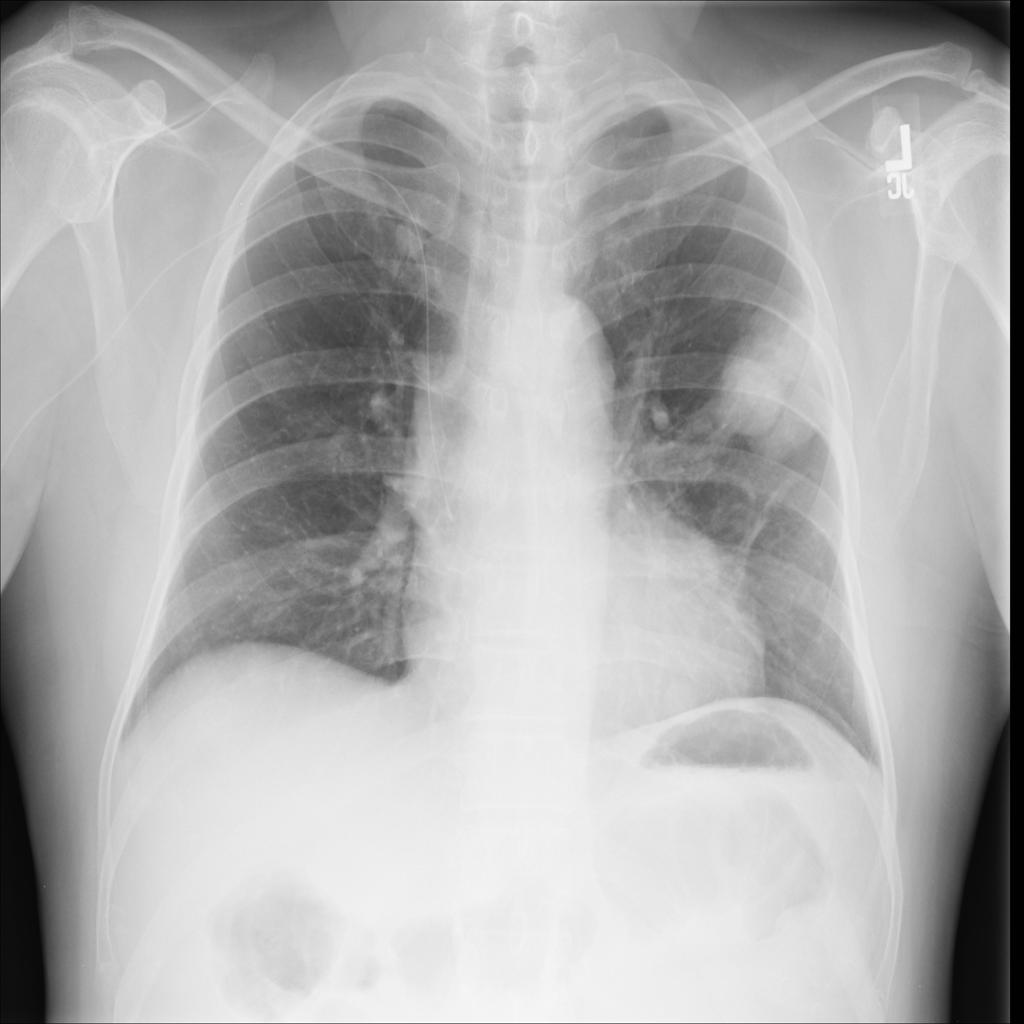nodule: (703, 323, 815, 450), (647, 663, 719, 733), (384, 209, 431, 265)
